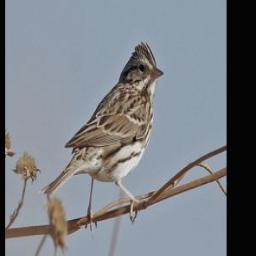Sparrow: (42, 41, 164, 235)
